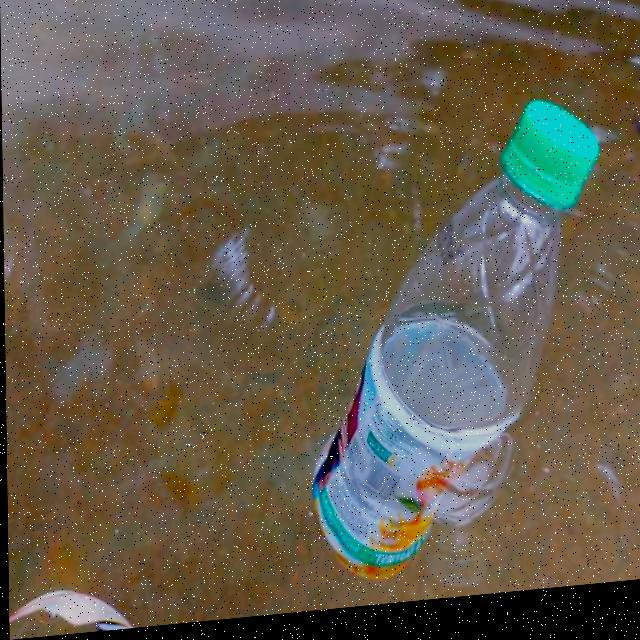waterbottle: (271, 102, 621, 568)
